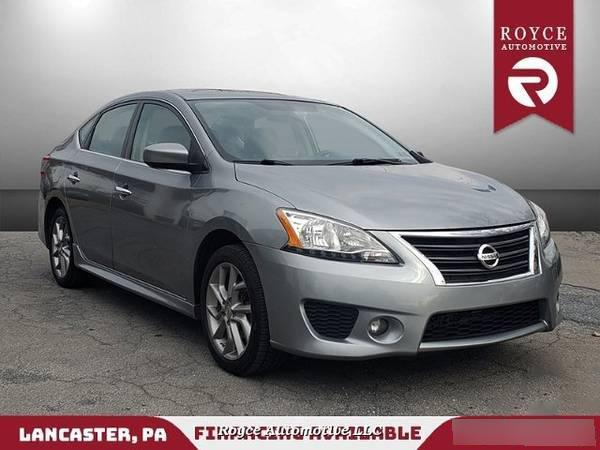Front_Bumper: (246, 224, 564, 356)
Front_Fender: (183, 152, 296, 319)
Front_Right_Door: (105, 159, 201, 307)
Front_Right_Window: (122, 99, 205, 173)
Front_Windshield: (187, 99, 420, 164)
Grille: (385, 219, 543, 285)
Hood: (234, 162, 534, 231)
Left_Headlight: (520, 194, 547, 238)
Rear_Fender: (32, 117, 97, 248)
Rear_Right_Door: (57, 152, 115, 282)
Rear_Right_Window: (78, 99, 139, 159)
Right_Headlight: (278, 208, 404, 265)
Roof: (67, 89, 340, 157)
Wheel: (197, 247, 279, 376), (46, 214, 82, 291)
